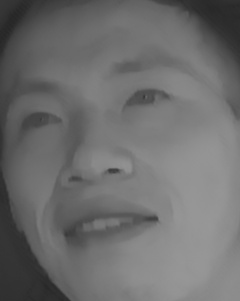eye: (115, 80, 178, 120), (13, 103, 65, 143)
mouth: (48, 199, 168, 260)
